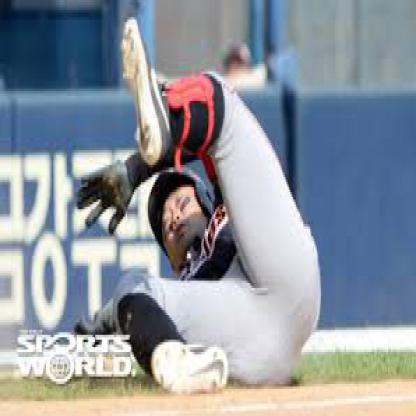Fall_Down: (73, 14, 326, 403)
